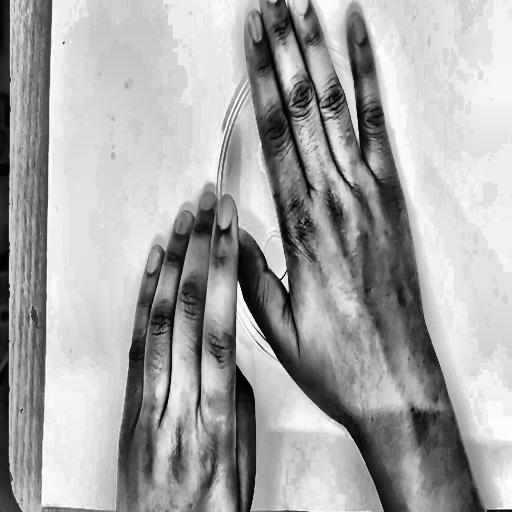bottom_left: (37, 496, 46, 512)
button: (208, 42, 410, 383)
